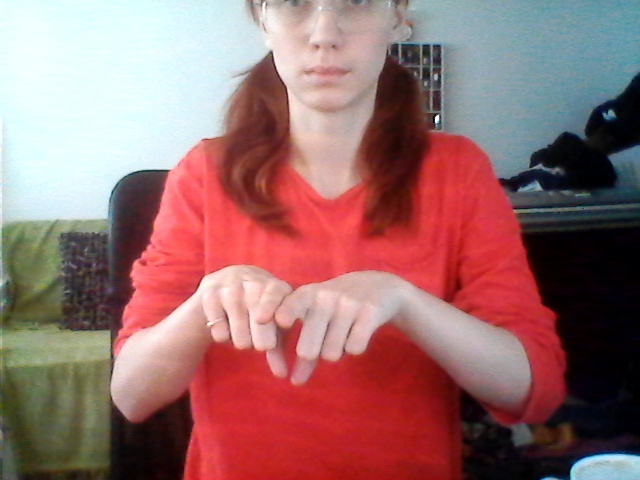sestra: (195, 256, 411, 384)
